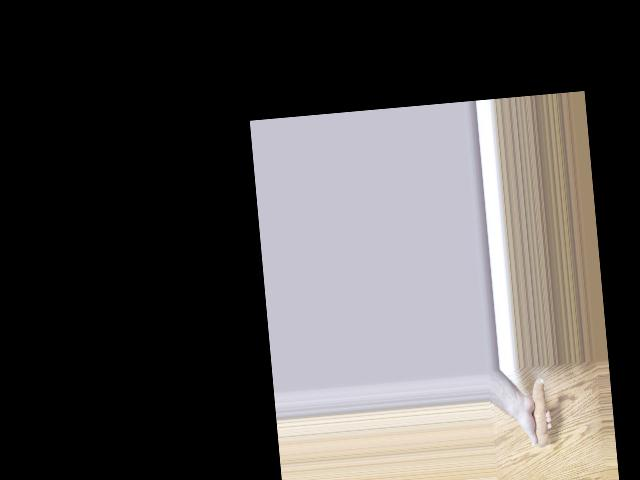sweet_potato: (523, 376, 550, 449)
